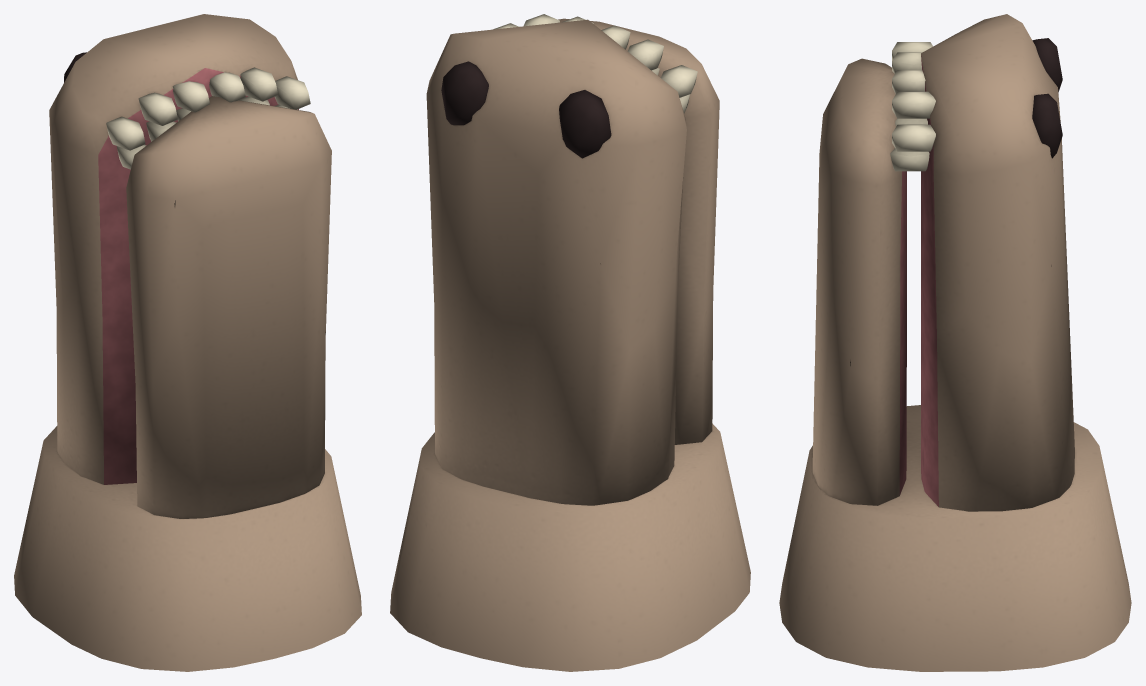
File: cpart_muzzle_grazer.glb
3 views of the same model, side by side, from view 1: azimuth 30°, elevation 25°; view 2: azimuth 150°, elevation 25°; view 3: azimuth 270°, elevation 25° (orthographic). The views are drawn at different scales.
Visible parts, largest first — view 1: MuzzleGrazer, Lower; view 2: MuzzleGrazer, Lower; view 3: MuzzleGrazer, Lower.
Boxes of the visible parts, bbox=[...] form: MuzzleGrazer: bbox=[14, 14, 361, 671]; Lower: bbox=[117, 96, 331, 518]; MuzzleGrazer: bbox=[390, 14, 750, 671]; Lower: bbox=[558, 18, 719, 444]; MuzzleGrazer: bbox=[779, 14, 1131, 671]; Lower: bbox=[812, 58, 929, 505].
Bounding box in the file's own units: 0.0941 × 0.1767 × 0.1016.
4 materials, 4 textured.
